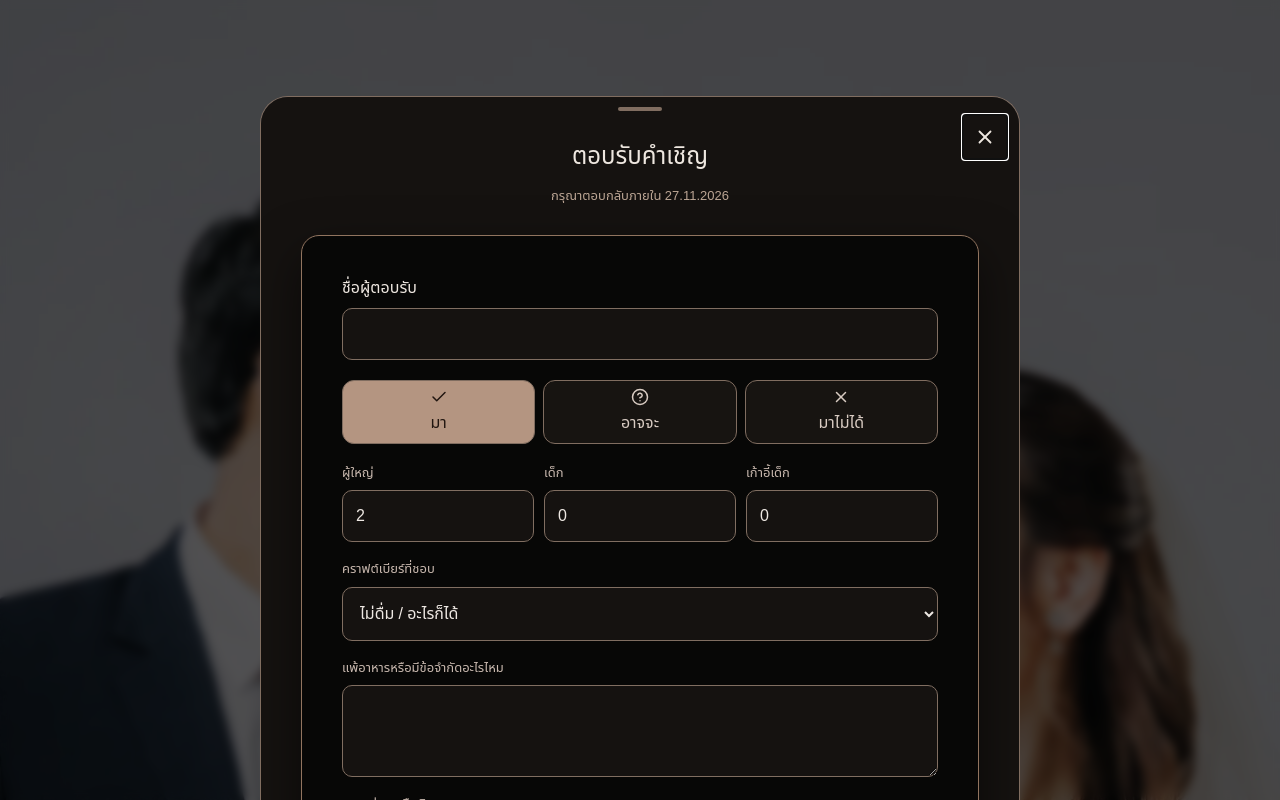
keeps the sheet open on a failed save and allows retry
Type "Guest" into the field labelled "ชื่อผู้ตอบรับ" at (640, 334), box x1=342 y1=308 x2=938 y2=360
(page scrolled)
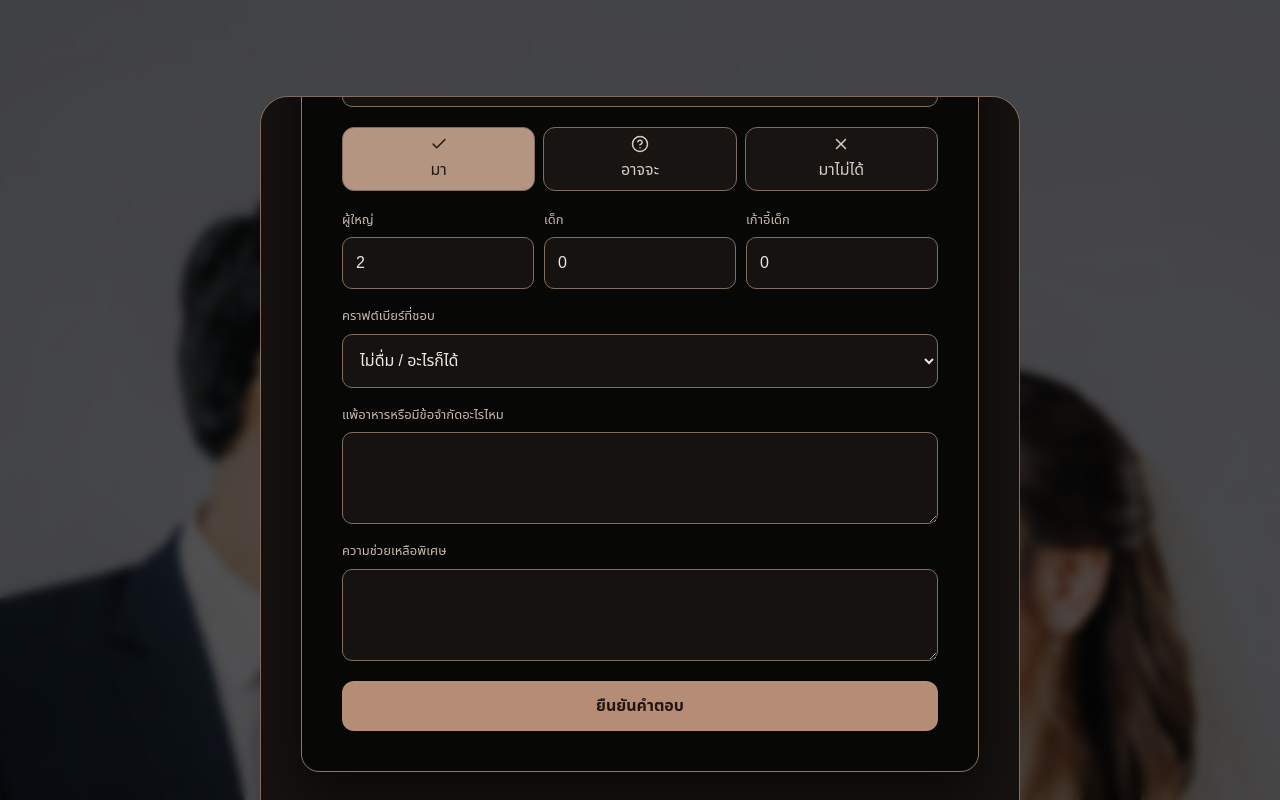
Click the button "ยืนยันคำตอบ" at (640, 706), box x1=342 y1=680 x2=938 y2=730
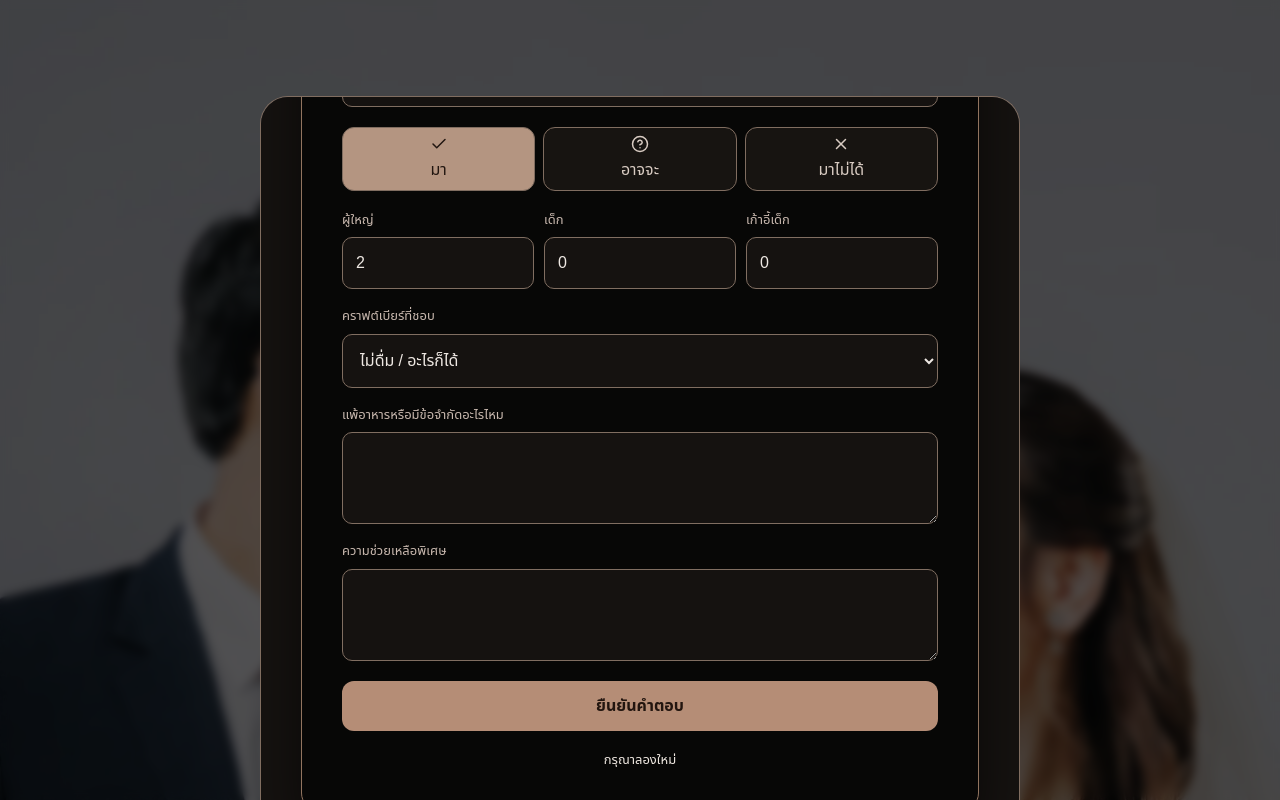
Check: the dialog "ตอบรับคำเชิญ" is shown, box x1=260 y1=96 x2=1020 y2=799
Check: the button "ยืนยันคำตอบ" is enabled, box x1=342 y1=680 x2=938 y2=730
Check: the text "กรุณาลองใหม่" is shown, box x1=604 y1=750 x2=676 y2=770
